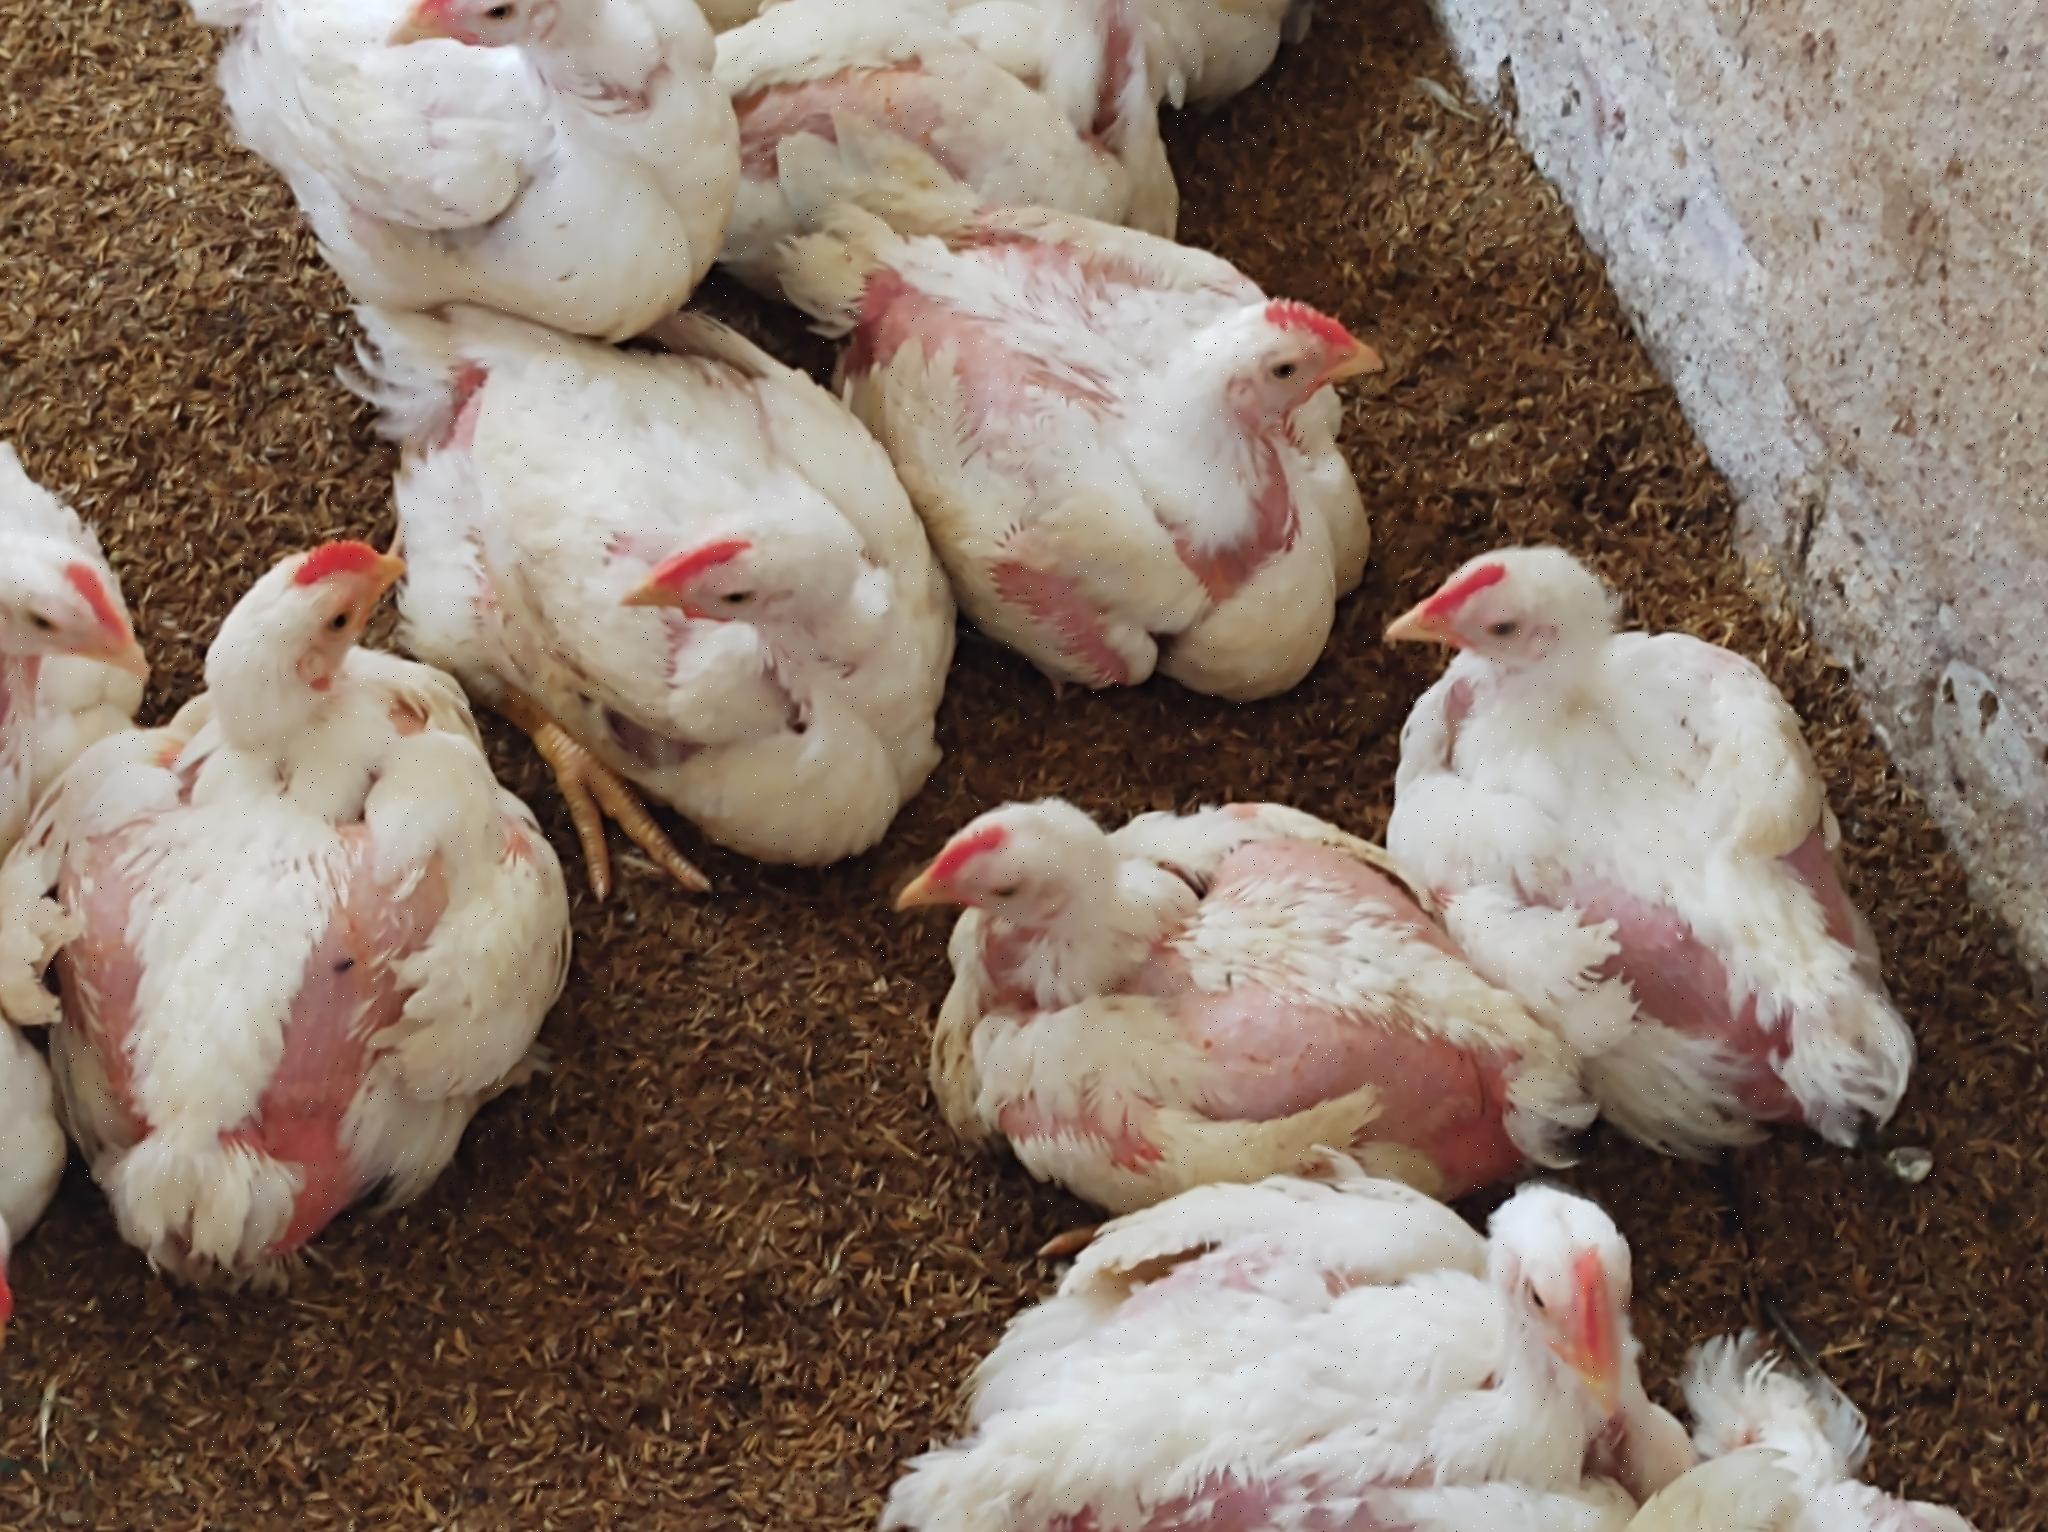Pollos: (108, 526, 550, 1250), (1393, 525, 1898, 1152), (487, 283, 972, 842), (894, 764, 1556, 1163), (888, 1191, 1688, 1521), (883, 182, 1384, 697), (272, 2, 803, 340), (2, 441, 196, 772)
